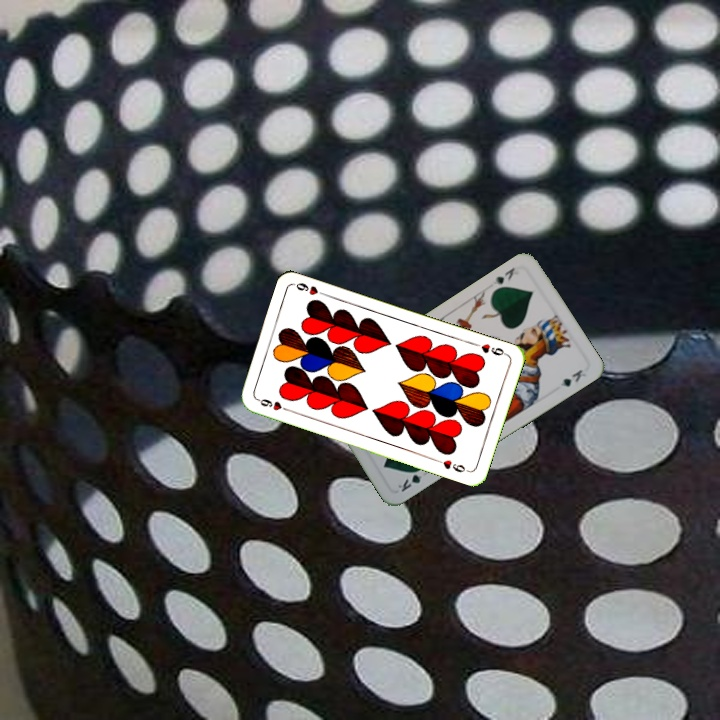GK: (394, 463, 427, 495), (489, 263, 517, 287)
H9: (470, 339, 510, 358), (253, 395, 293, 414)
